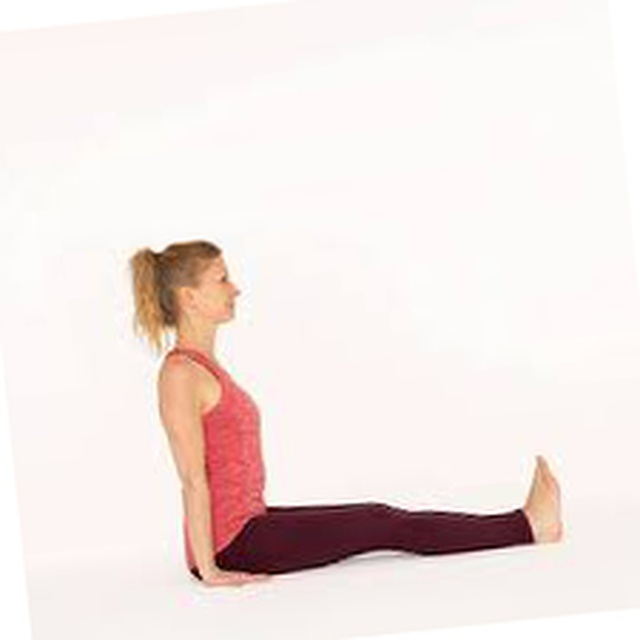Staff_Pose: (130, 240, 565, 586)
